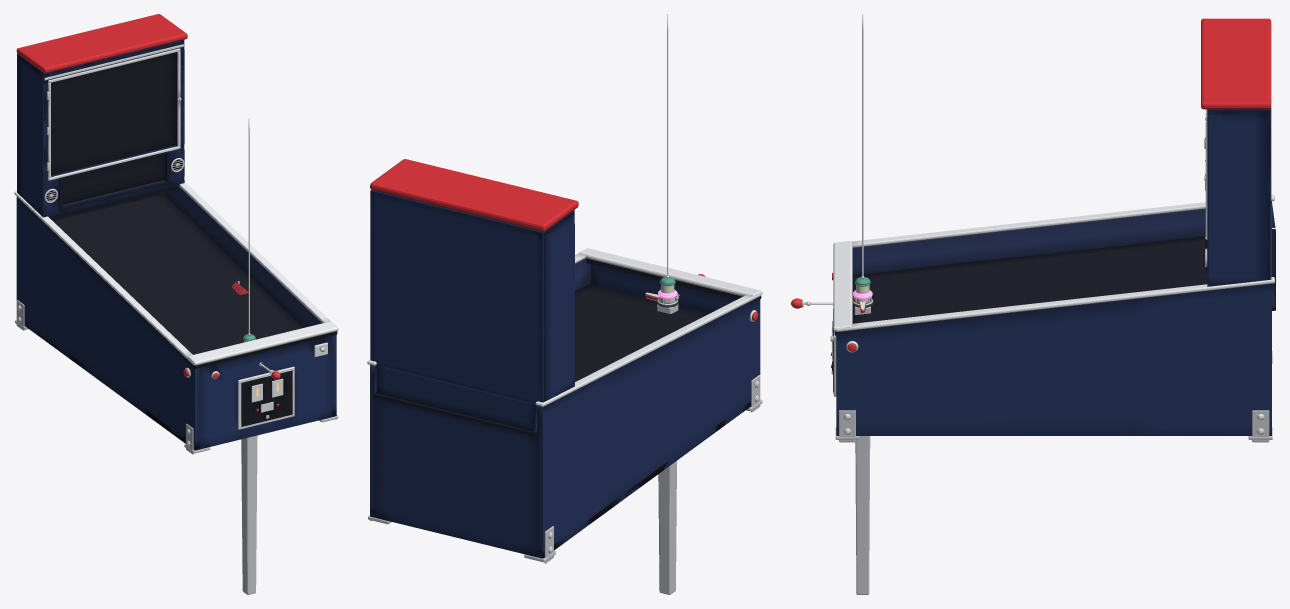
File: pinball.glb
3 renders of one model, left to right at view 1: azimuth 30°, elevation 25°; view 2: azimuth 150°, elevation 25°; view 3: azimuth 270°, elevation 25°, orthographic. The views are drawn at different scales.
Parts seen in each view (by area): view 1: PinCabinet, PinBackbox, PinLeg, PinSpacer; view 2: PinCabinet, PinBackbox, PinLeg, PinSpacer; view 3: PinCabinet, PinBackbox, PinLeg.
Part boxes in pixels (x1,y1,x2,y2): PinCabinet: (14,182,338,454); PinBackbox: (16,14,187,221); PinLeg: (241,435,257,594); PinSpacer: (248,118,249,333); PinCabinet: (367,248,762,563); PinBackbox: (370,159,578,409); PinLeg: (657,303,678,594); PinSpacer: (667,14,668,275); PinCabinet: (830,194,1275,442); PinBackbox: (1201,18,1271,286); PinLeg: (854,306,870,594).
Bounding box in the file's own units: 0.656 × 2 × 1.52.
